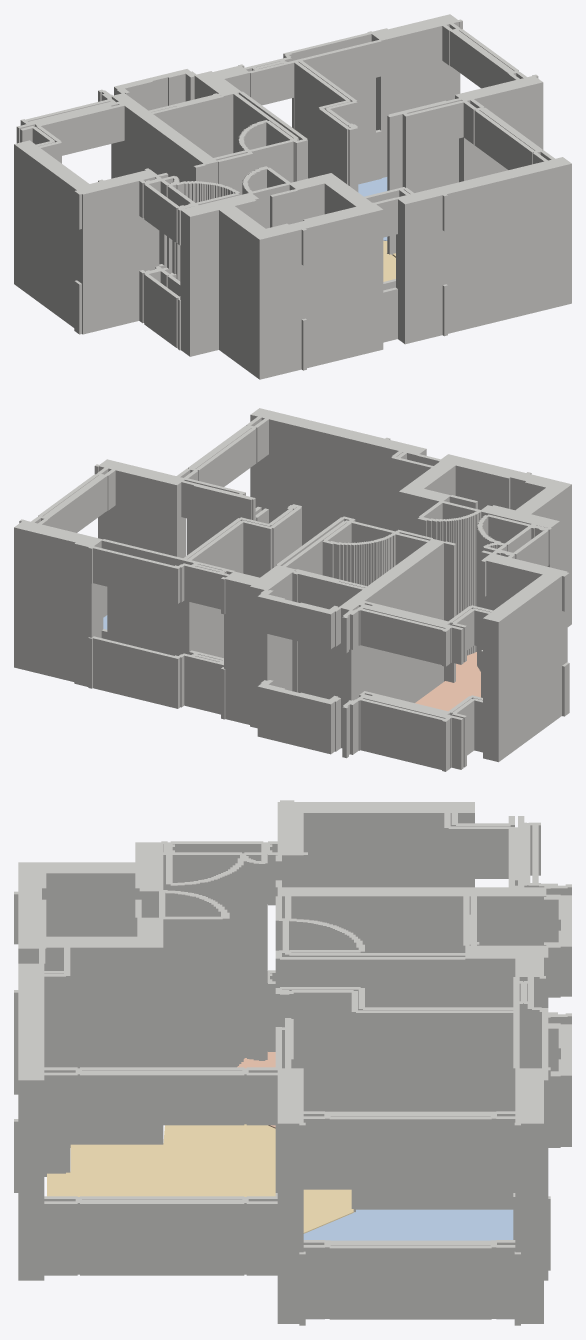
The picture shows the model from 3 angles, top to bottom: view 1: azimuth 30°, elevation 25°; view 2: azimuth 150°, elevation 25°; view 3: azimuth 270°, elevation 25°; orthographic projection. The views are drawn at different scales.
Visible parts, largest first — view 1: walls; view 2: walls, room:kitchen:5; view 3: walls, room:living:2, room:bedroom:0.
Part boxes in pixels (box(x1,y1,x2,y2)): walls: box(14, 14, 571, 379); walls: box(14, 408, 571, 771); room:kitchen:5: box(415, 652, 480, 711); walls: box(14, 800, 571, 1325); room:living:2: box(47, 1124, 353, 1233); room:bedroom:0: box(303, 1209, 513, 1240).
Size of the model in its own units: 9.75 by 2.8 by 7.07.
